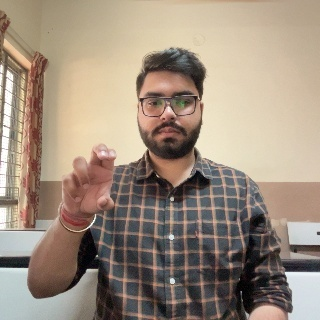Face: (135, 52, 202, 162)
No: (60, 145, 116, 240)
